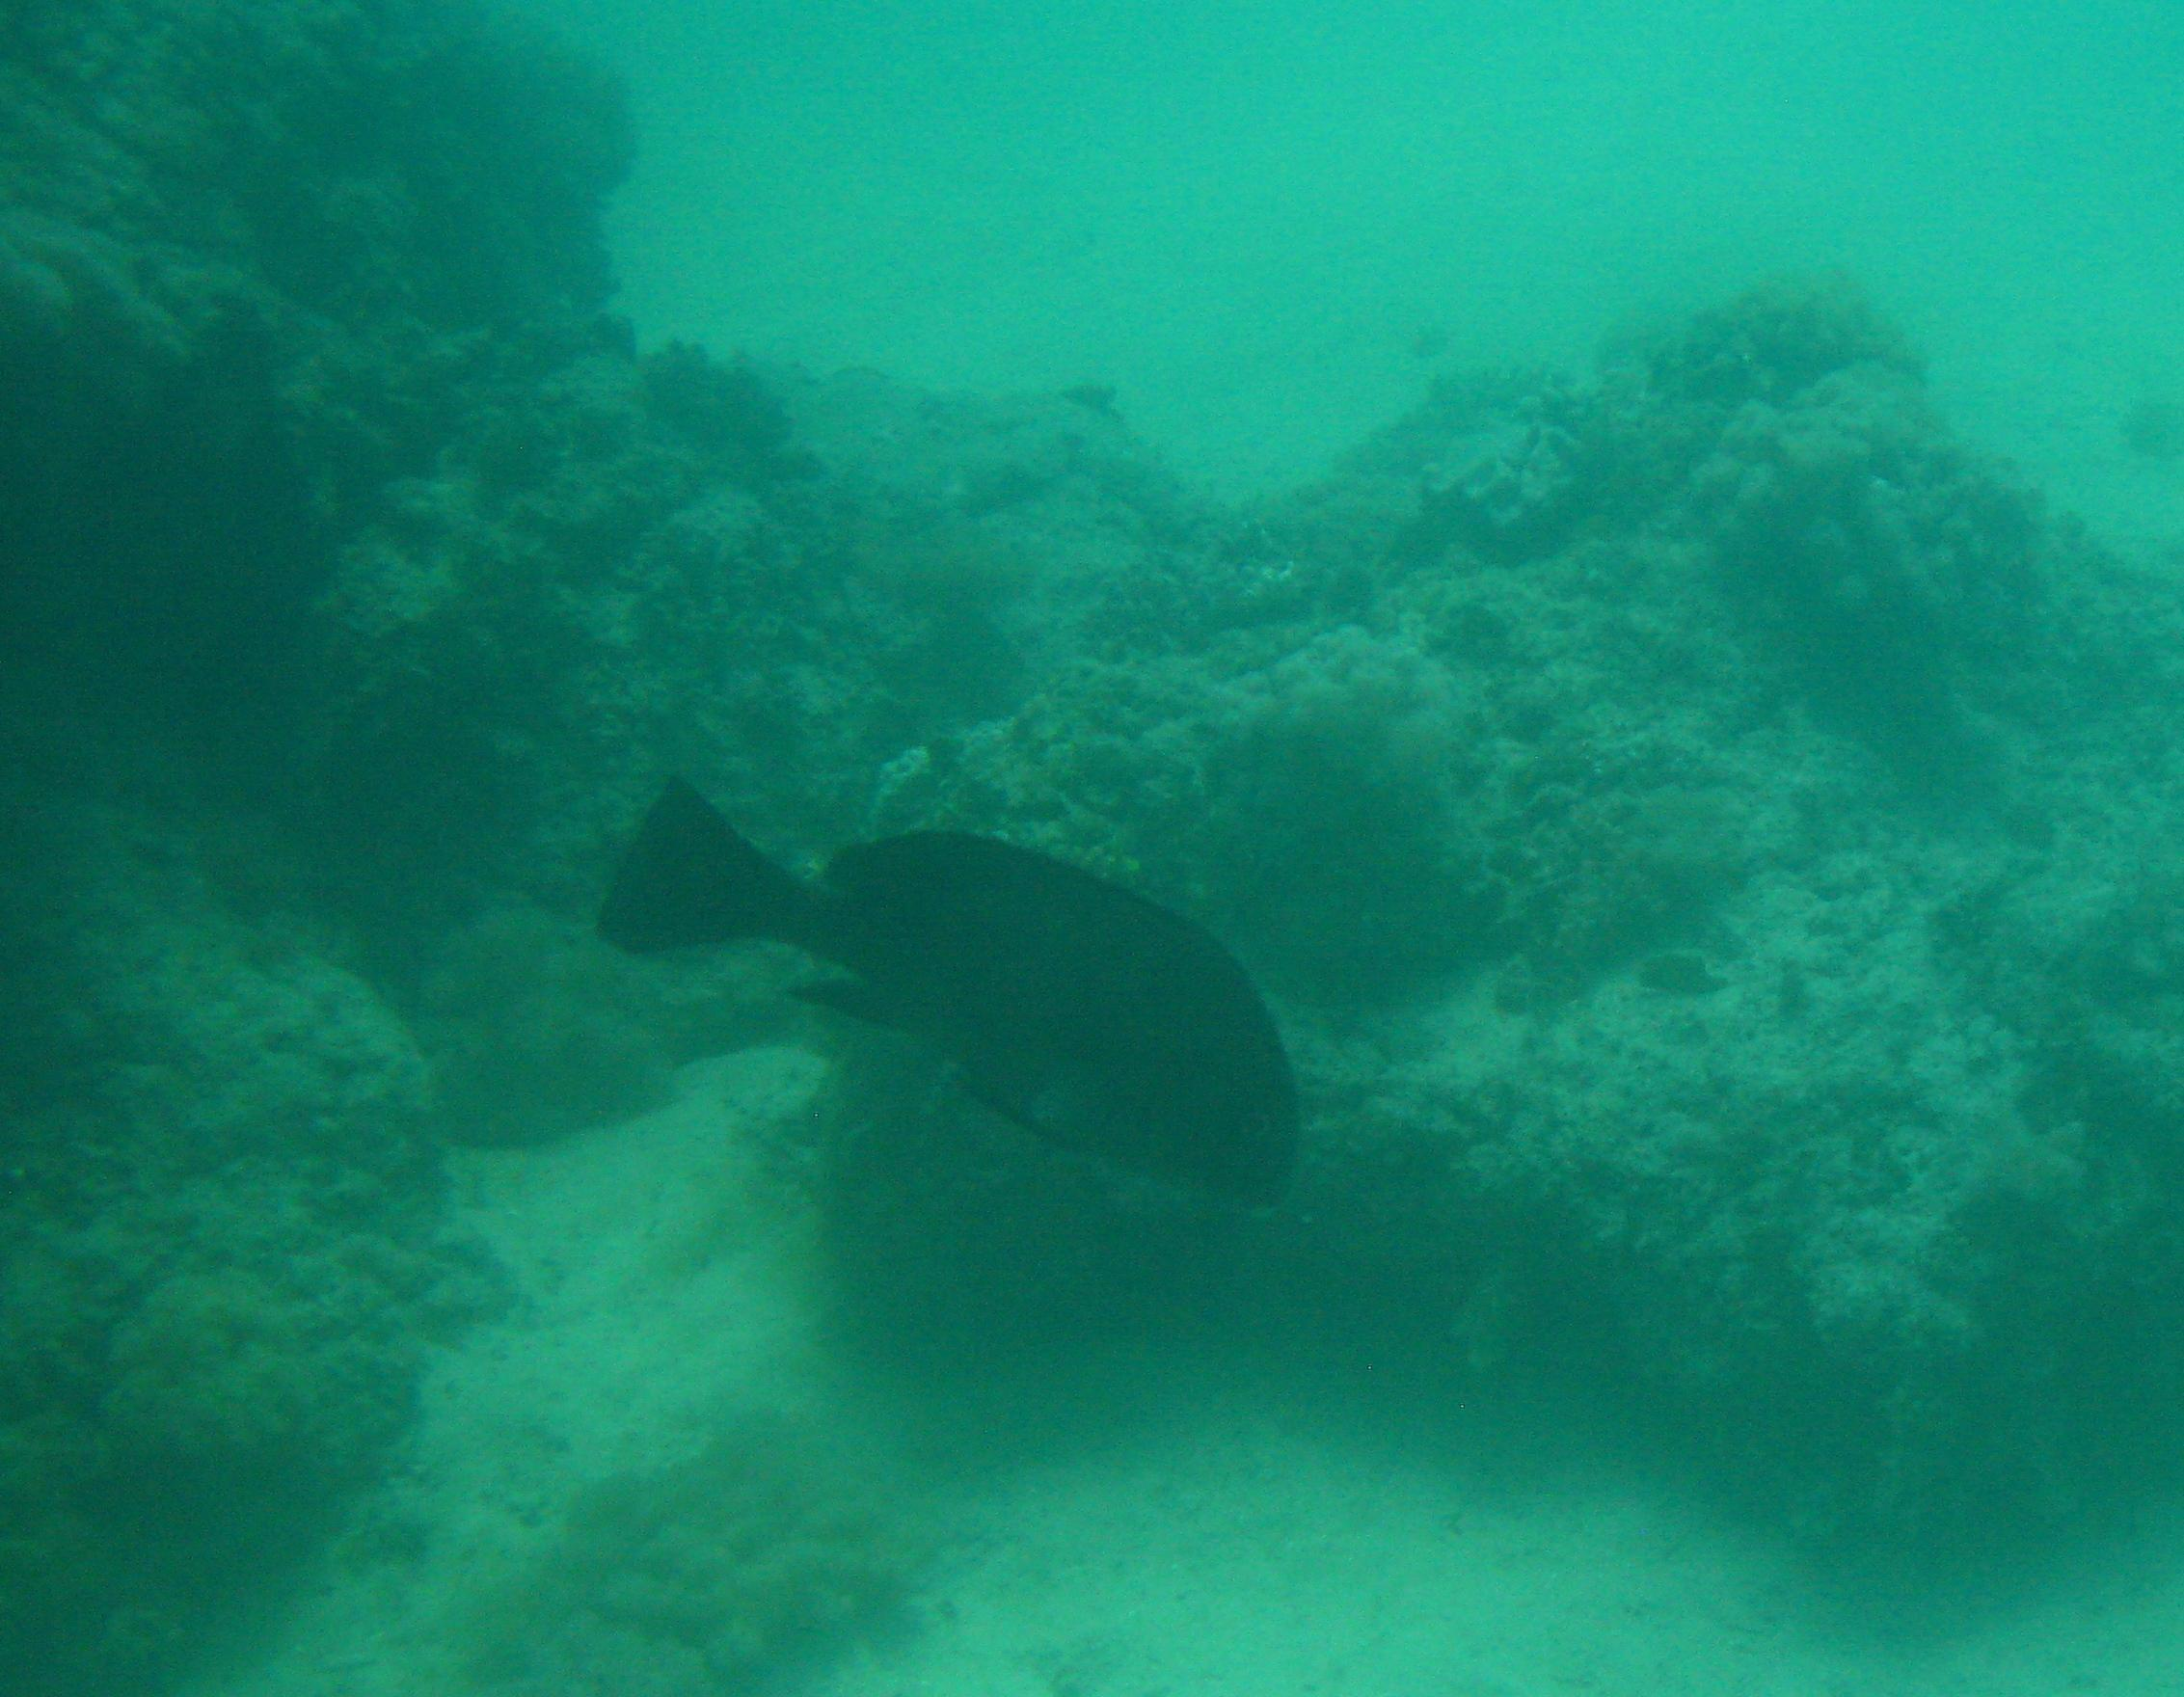Fish: (596, 759, 1328, 1254)
